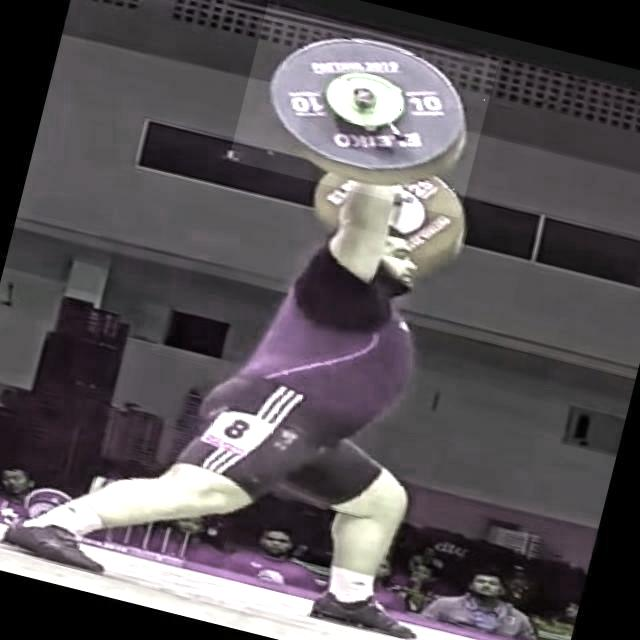barbell: (228, 4, 499, 218)
